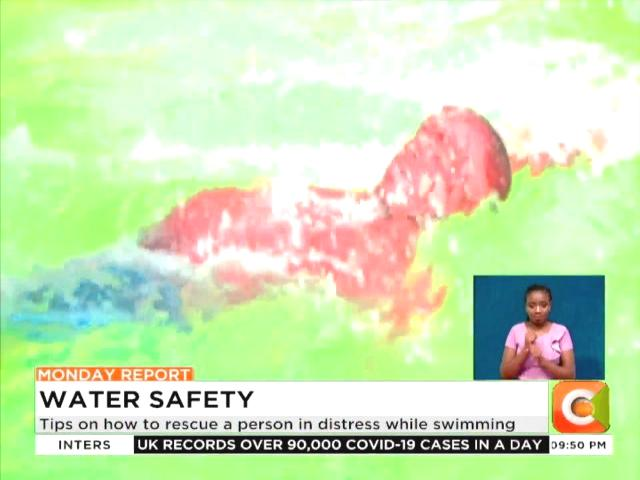swimming: (33, 106, 574, 364)
